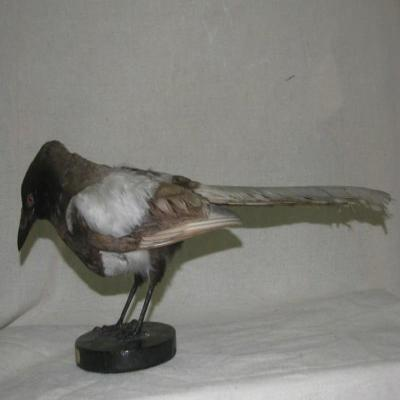natural_science_collection: (16, 141, 392, 341)
